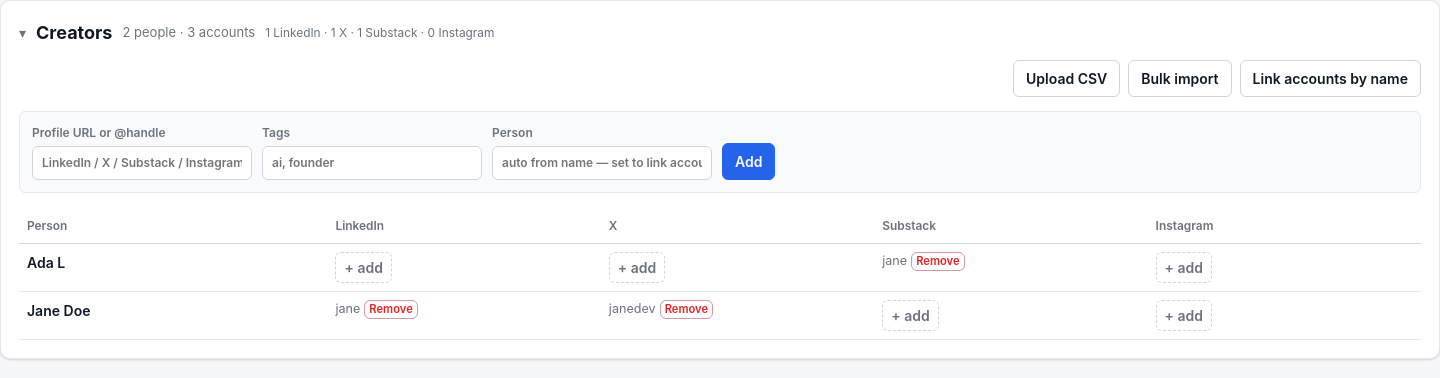
Test: CreatorManager — person x platform table (PRD §11.8) › prefills the Person field when an add cell is clicked, so the account links up
Click the button with aria-label "add substack for jane doe" at (910, 315), box [882,300,939,331]
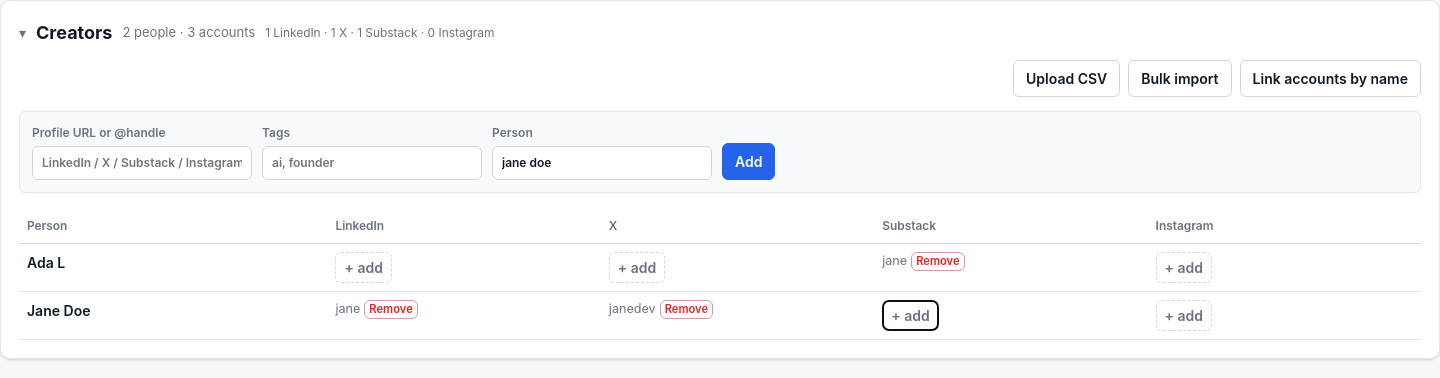
Expected: the field labelled "Person" holds "jane doe", [492,146,712,180]
